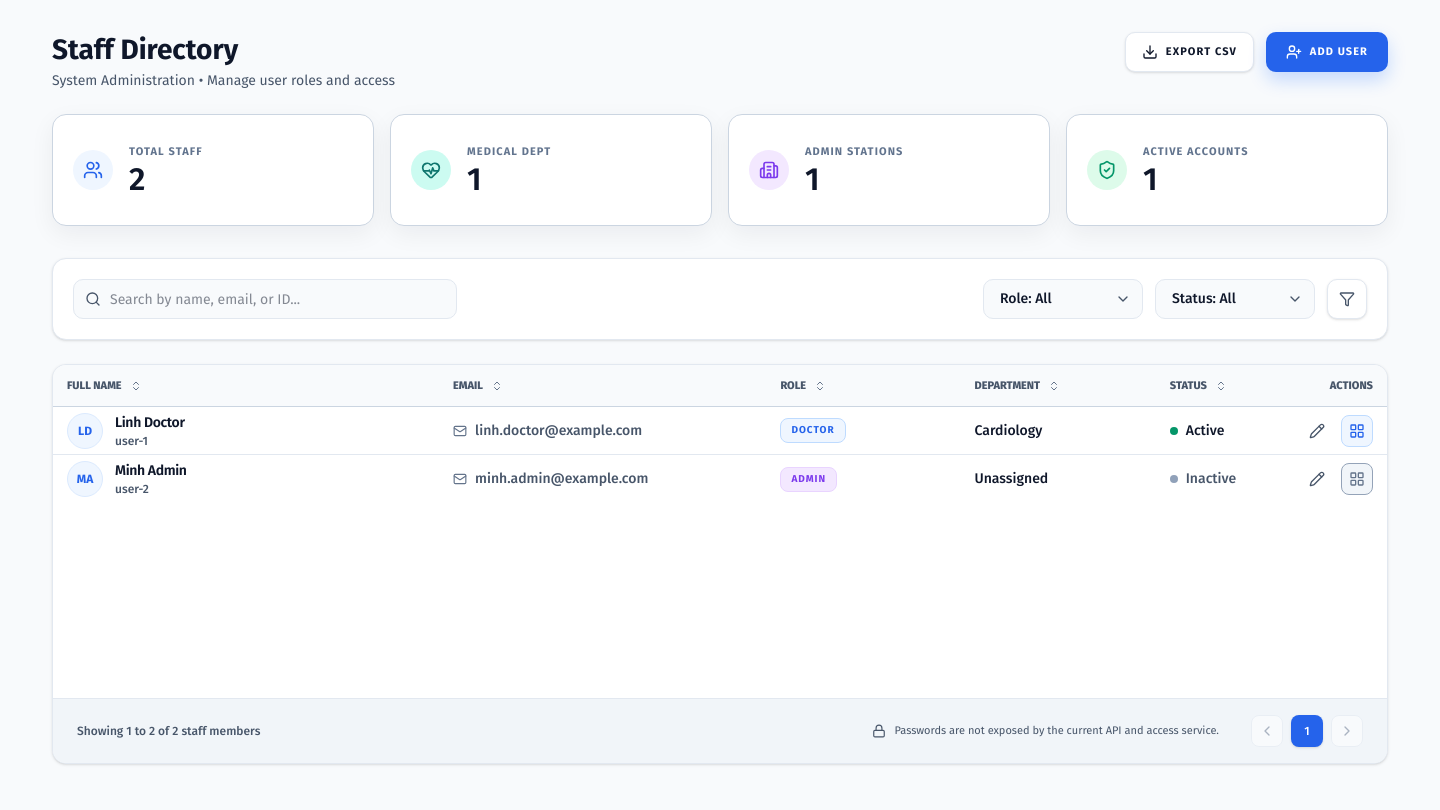
Test: AdminUsersPage › filters users locally by search, role, and status
Check: the text "Linh Doctor" is shown, box [115,412,185,432]
Type "minh" into the search field named "search users". click: (265, 299)
box: [73,279,457,319]
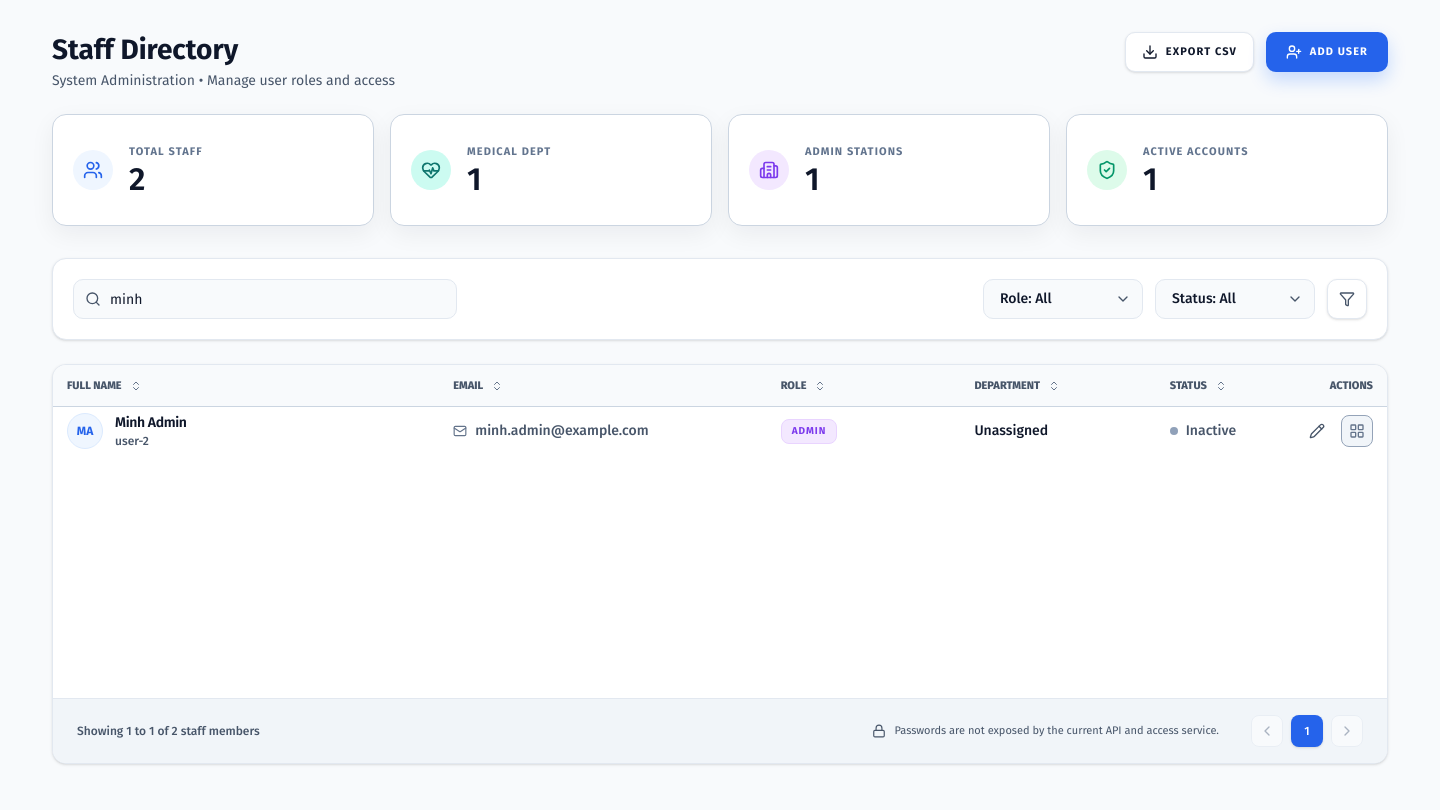
Check: the text "Minh Admin" is shown, box [115,413,187,433]
Check: the text "Linh Doctor" is gone
Select "DOCTOR" in the dropdown named "filter users by role". click: (1063, 299)
box: [983,279,1143,319]
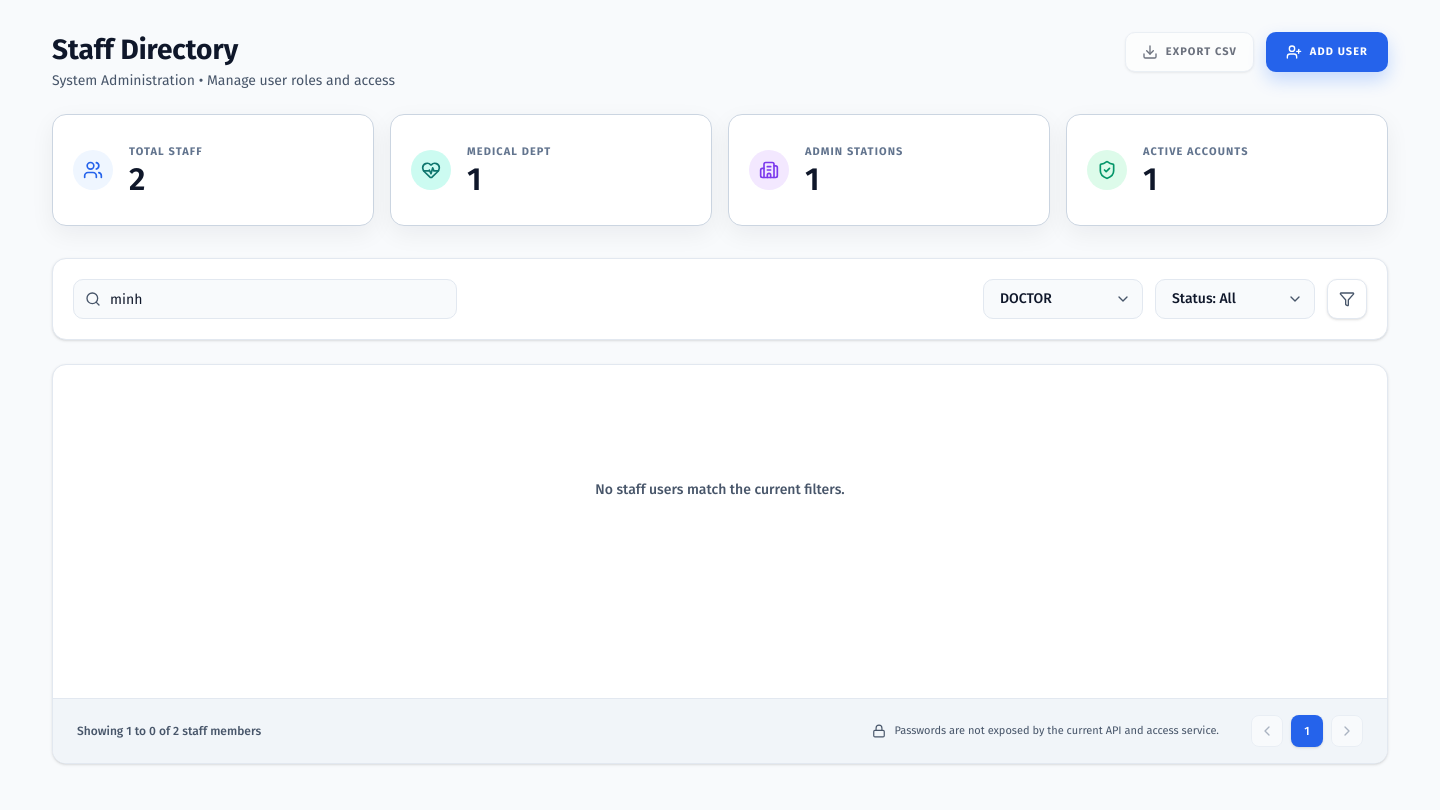
Check: the text "No staff users match the current filters." is shown, box [595,481,845,498]
